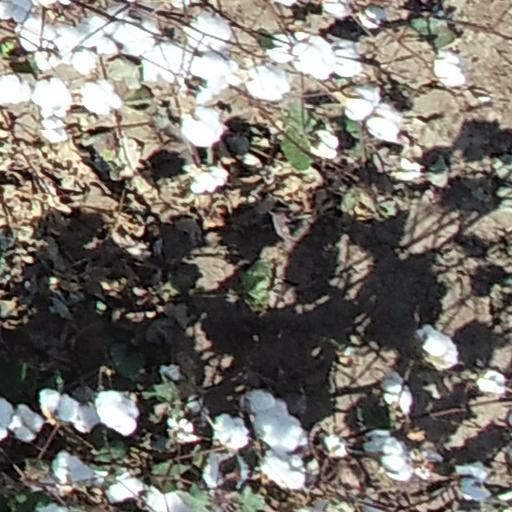Boll: (254, 397, 302, 450), (41, 392, 94, 430), (192, 54, 234, 99), (141, 39, 184, 81), (371, 435, 409, 479), (99, 389, 137, 432), (184, 14, 231, 47), (419, 329, 455, 368), (293, 39, 332, 75), (182, 107, 221, 143), (115, 18, 156, 52), (248, 65, 290, 98), (34, 81, 71, 118), (262, 454, 303, 487), (54, 455, 91, 490), (344, 81, 379, 118), (365, 103, 401, 138), (84, 81, 120, 114), (78, 13, 114, 46), (456, 463, 486, 499), (434, 51, 463, 88), (18, 18, 52, 48), (384, 373, 413, 408), (208, 456, 245, 483), (56, 28, 85, 61), (13, 405, 40, 440), (329, 42, 359, 73), (216, 416, 246, 445), (1, 76, 34, 102), (109, 473, 140, 500), (269, 31, 296, 62), (192, 166, 226, 189), (392, 155, 418, 181), (477, 370, 505, 394), (35, 46, 59, 70), (44, 119, 67, 144), (74, 51, 99, 74), (1, 1, 30, 19), (361, 8, 384, 26), (326, 437, 349, 453), (326, 3, 349, 17), (98, 37, 115, 55)
